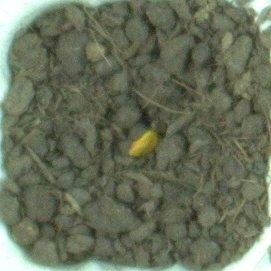pepper seed: (47, 47, 206, 208)
